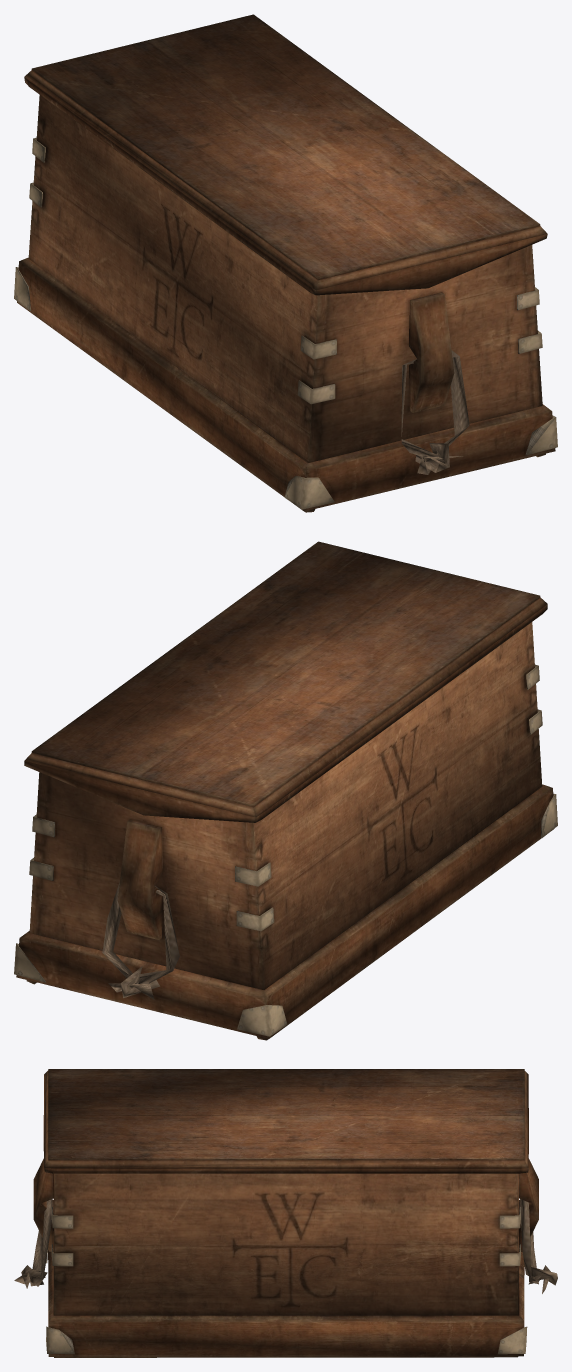
The model's file is wooden_crate_02_opt.gltf.
3 views of the same model, one above another, from view 1: azimuth 30°, elevation 25°; view 2: azimuth 150°, elevation 25°; view 3: azimuth 270°, elevation 25° (orthographic). The views are drawn at different scales.
Visible parts, largest first — view 1: wooden_crate_02_crate, wooden_crate_02_lid; view 2: wooden_crate_02_crate, wooden_crate_02_lid; view 3: wooden_crate_02_crate, wooden_crate_02_lid.
Part boxes in pixels (x1=…): wooden_crate_02_crate: x1=14, y1=95, x2=557, y2=512; wooden_crate_02_lid: x1=24, y1=14, x2=547, y2=295; wooden_crate_02_crate: x1=14, y1=622, x2=557, y2=1040; wooden_crate_02_lid: x1=24, y1=541, x2=547, y2=822; wooden_crate_02_crate: x1=14, y1=1158, x2=557, y2=1357; wooden_crate_02_lid: x1=43, y1=1069, x2=528, y2=1173.
Size of the model in its own units: 0.5291 by 0.4628 by 1.16.
Materials: 1 (1 with a texture image).
